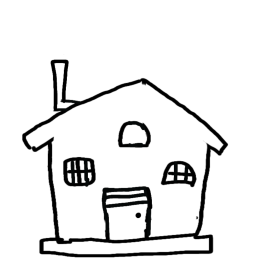bottom_placed_house: (3, 3, 260, 260)
chimney: (44, 44, 88, 124)
closed_window: (155, 155, 202, 193), (60, 154, 100, 189)
door: (97, 180, 157, 241)
open_window: (114, 117, 157, 158)
single_line_roof: (10, 52, 247, 154)
wall: (44, 135, 212, 247)
